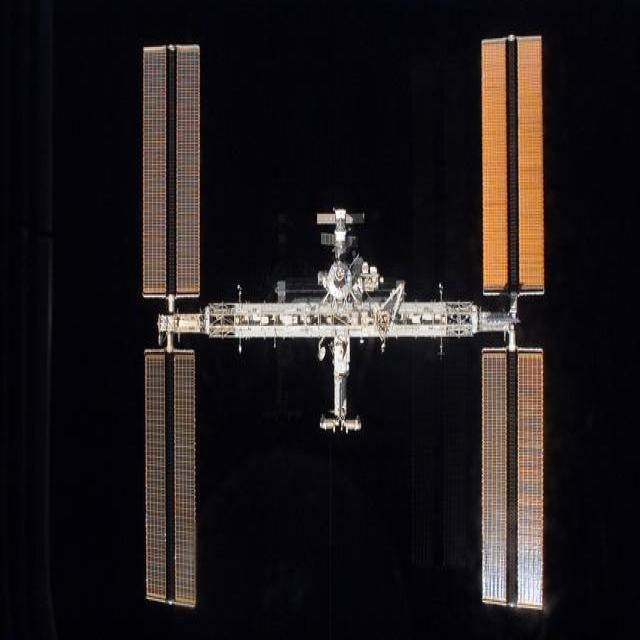satellite: (141, 36, 544, 608)
